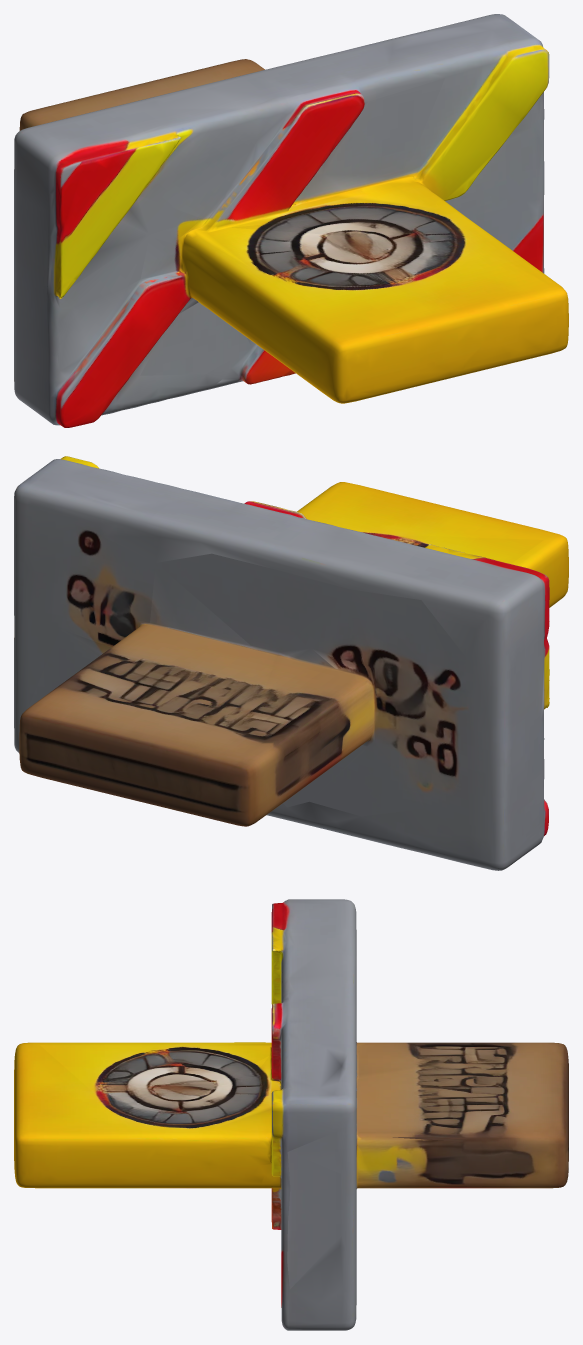
The model's file is obstacle_movingwall.glb.
3 renders of one model, top to bottom at view 1: azimuth 30°, elevation 25°; view 2: azimuth 150°, elevation 25°; view 3: azimuth 270°, elevation 25°, orthographic. The views are drawn at different scales.
Parts seen in each view (by area): view 1: model; view 2: model; view 3: model.
Part boxes in pixels (x1,y1,x2,y2): model: (14,14,568,427); model: (14,456,568,870); model: (14,899,568,1330).
Size of the model in its own units: 1.67 by 0.8795 by 1.9.
1 material, 1 textured.
